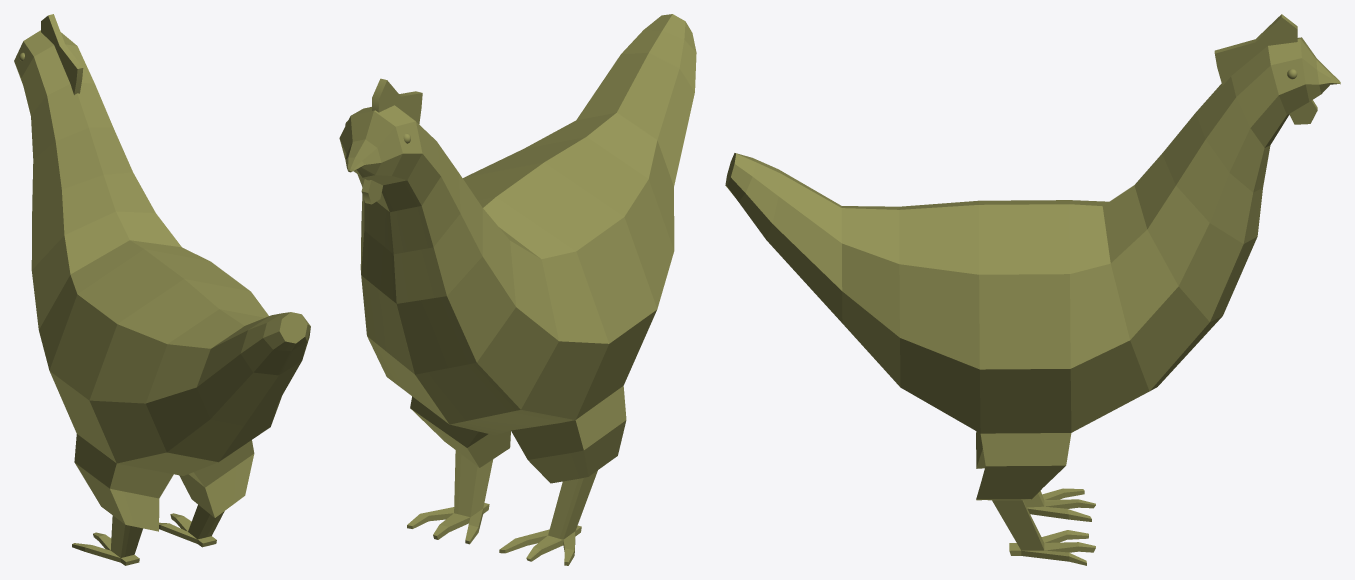
Rendered from Galinha.fbx.
The picture shows the model from 3 angles, left to right: view 1: azimuth 30°, elevation 25°; view 2: azimuth 150°, elevation 25°; view 3: azimuth 270°, elevation 25°; orthographic projection. The views are drawn at different scales.
Parts seen in each view (by area): view 1: polySurface8, polySurface15, polySurface10; view 2: polySurface8, polySurface15, polySurface10; view 3: polySurface8, polySurface15, polySurface10.
Part boxes in pixels (x1,y1,x2,y2): polySurface8: (14,30,310,531); polySurface15: (72,505,224,565); polySurface10: (41,14,83,94); polySurface8: (339,14,696,483); polySurface15: (345,157,597,565); polySurface10: (361,78,422,204); polySurface8: (725,37,1330,500); polySurface15: (992,72,1340,565); polySurface10: (1214,14,1317,124).
Bounding box in the file's own units: 2 × 4.58 × 4.96.
